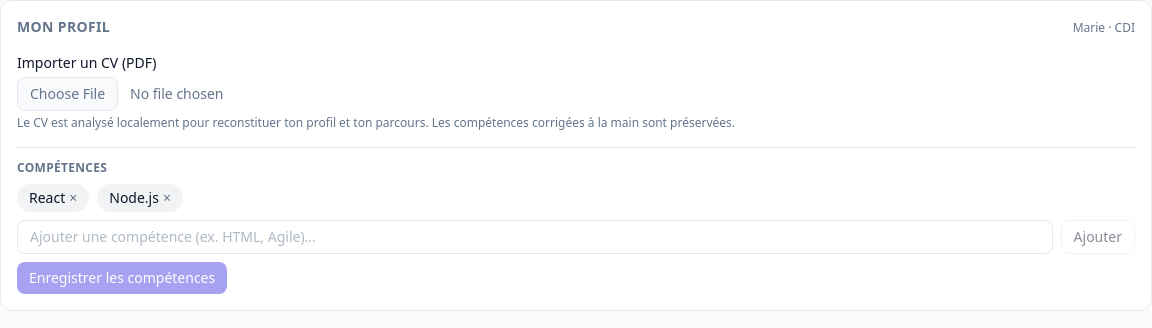
Test case: ProfilePanel (OPP-158) › ajoute une compétence et l'enregistre (PUT avec la liste complète)
Check: the list item "React" is shown, box x1=29 y1=188 x2=65 y2=207
Step 1. Type "Agile" into the field labelled "Ajouter une compétence" → [535, 237], box x1=17 y1=220 x2=1053 y2=254
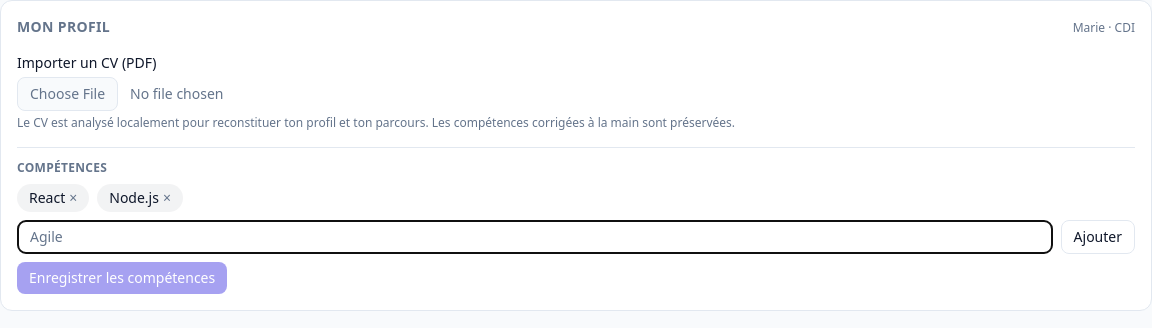
Step 2. Click the button "Ajouter" → [1098, 237], box x1=1061 y1=220 x2=1135 y2=254
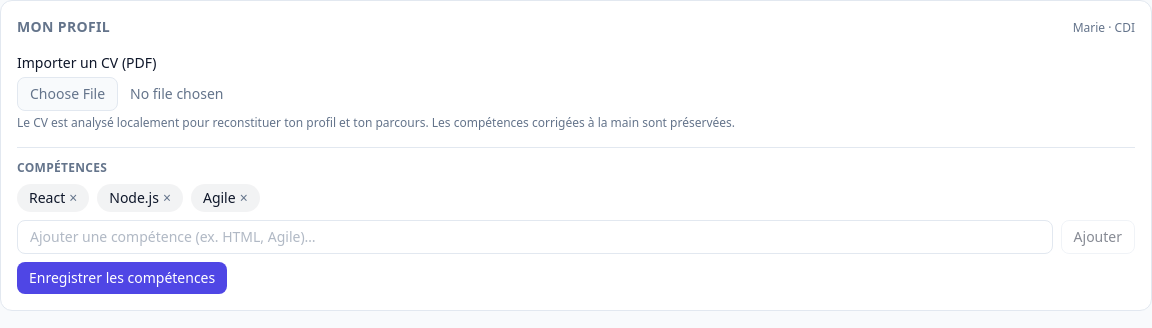
Step 3. Click the button "Enregistrer les compétences" → [122, 278], box x1=17 y1=262 x2=227 y2=294
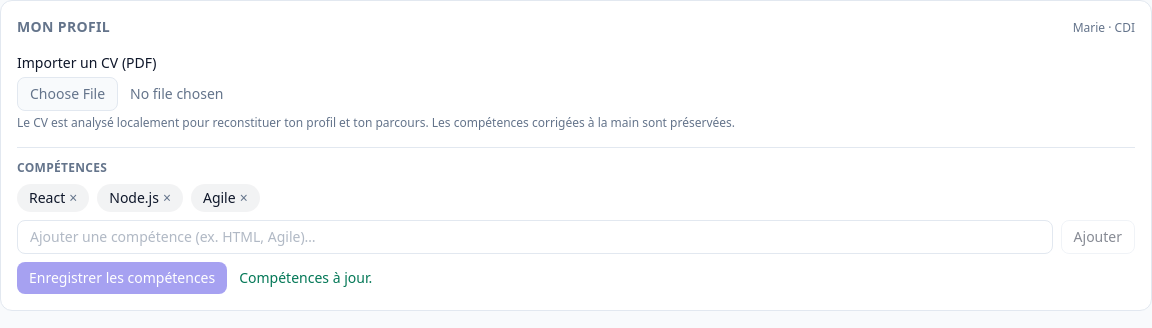
Check: the text "Compétences à jour." is shown, box x1=239 y1=268 x2=372 y2=288
